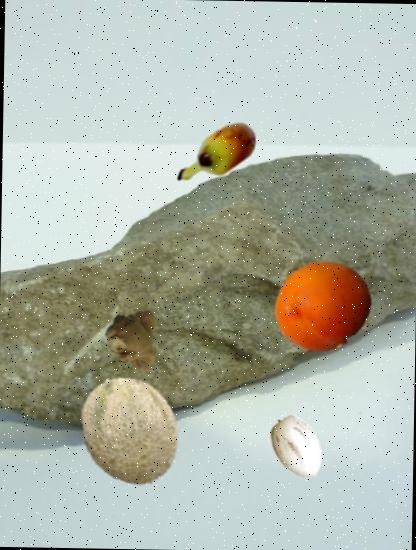Apricot: (272, 255, 374, 356)
Banana: (168, 108, 263, 203)
Cantaloupe: (72, 372, 188, 488)
Ginger: (106, 308, 170, 372)
Pepino: (262, 413, 332, 482)
